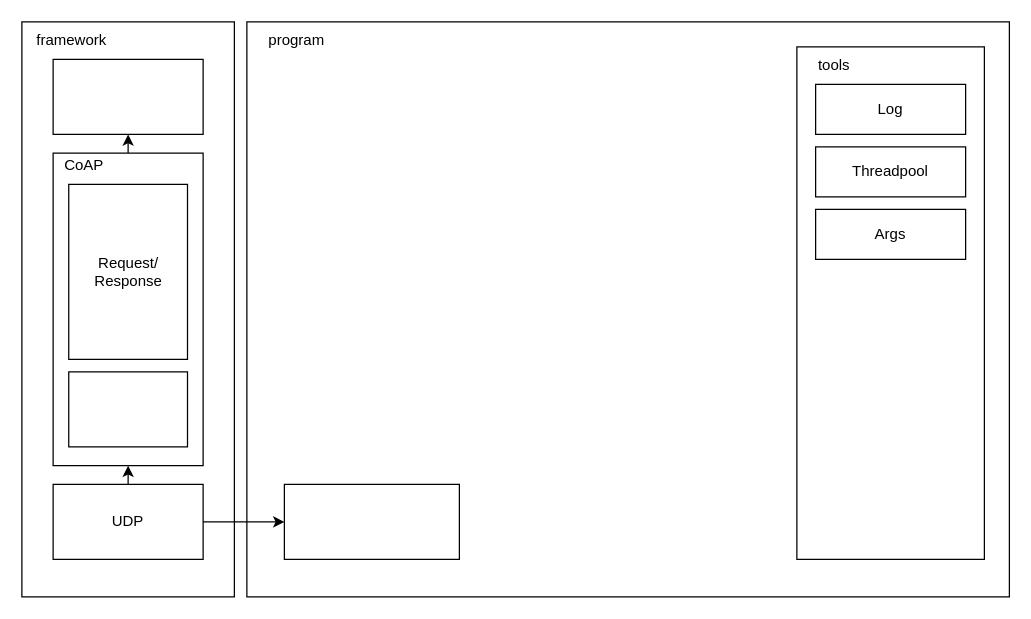
Some shapes in this 1031 by 619 pixel diagram are drawn without their labels. The shapes that lost their labels are listed below. From the top down, each one's centre as x and y in pixels, then its label:
the point at 127,96: Application
the point at 128,409: Message
the point at 371,521: Socket
